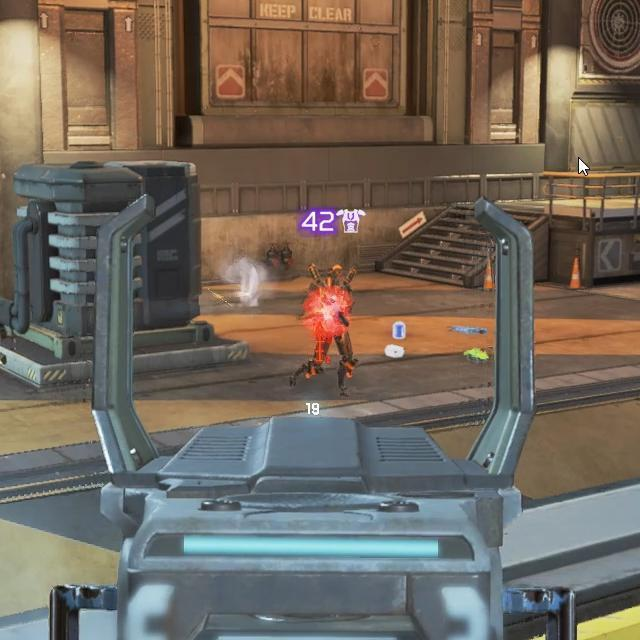avatar: (307, 263, 358, 398)
